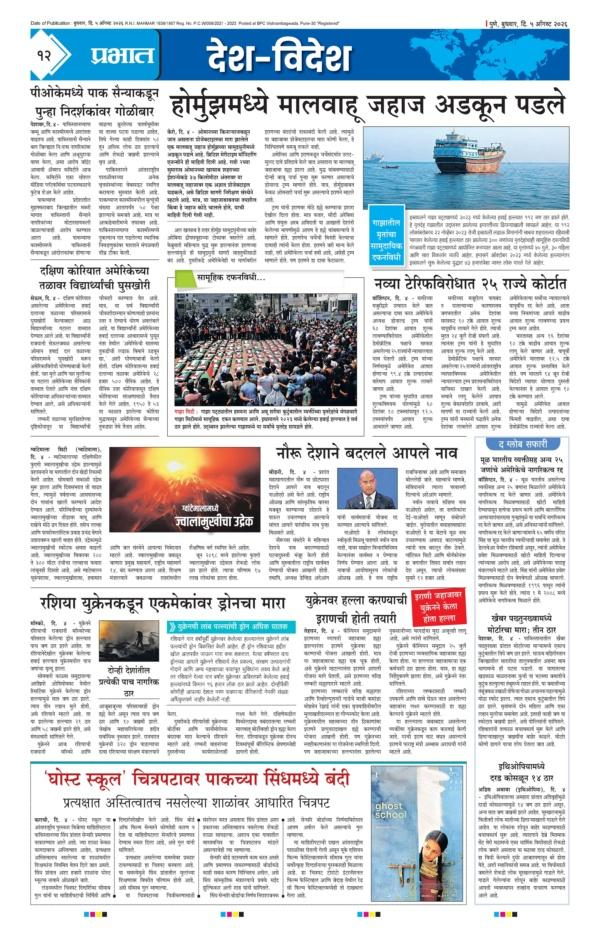Article: (161, 76, 588, 272), (9, 433, 470, 585), (18, 767, 472, 909), (16, 585, 294, 762), (470, 431, 571, 918), (363, 273, 580, 431), (166, 270, 364, 439), (296, 587, 473, 760), (6, 259, 165, 438), (12, 81, 159, 261)
